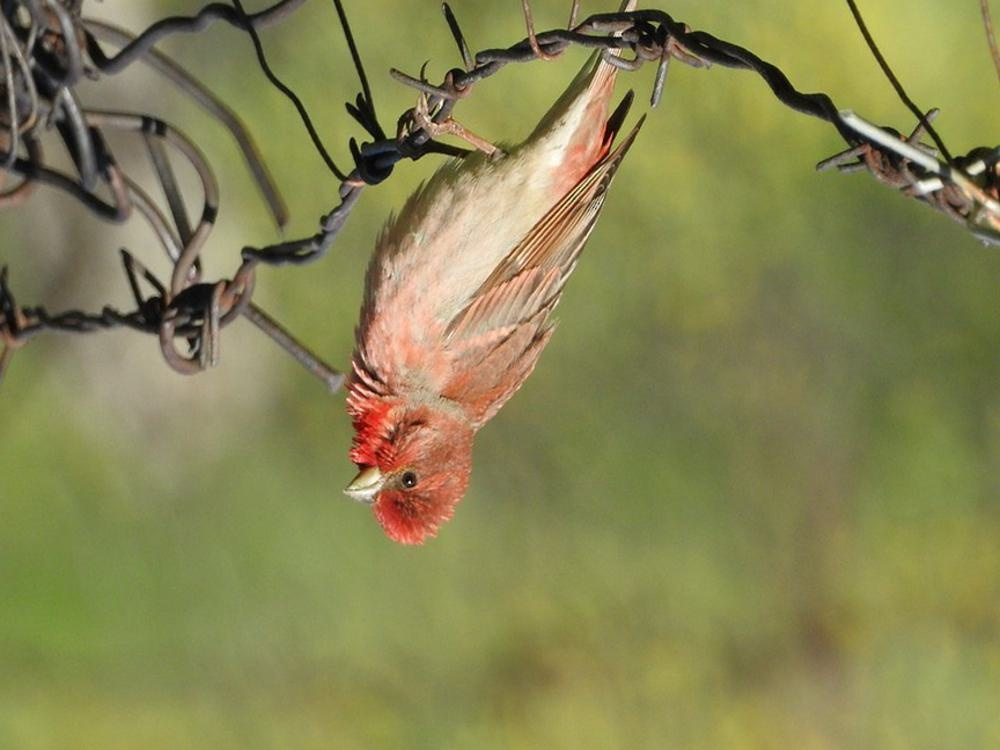rosefinch: (338, 93, 653, 555)
